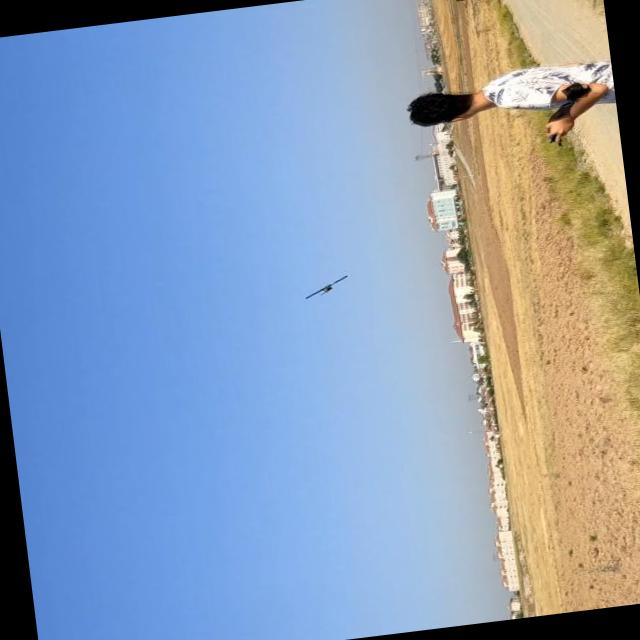UAV: (291, 270, 369, 330)
